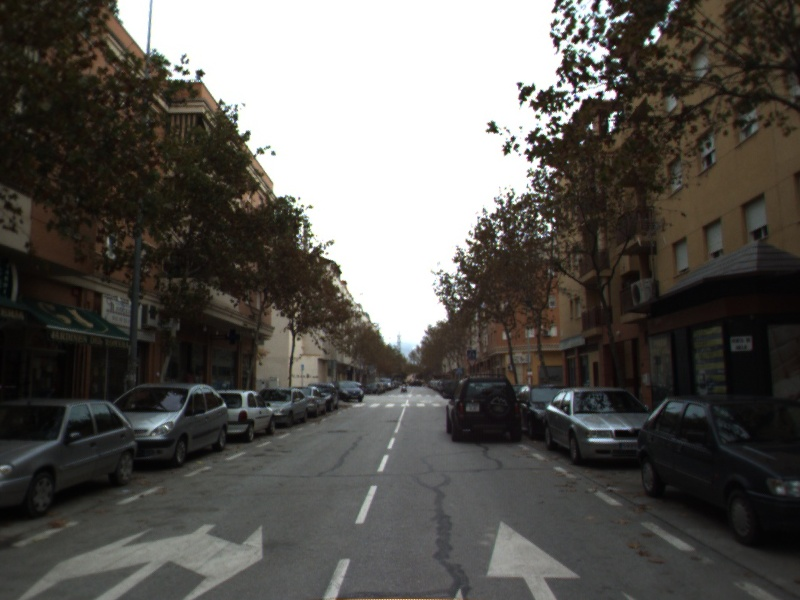STRAIGHT: (482, 517, 584, 600)
